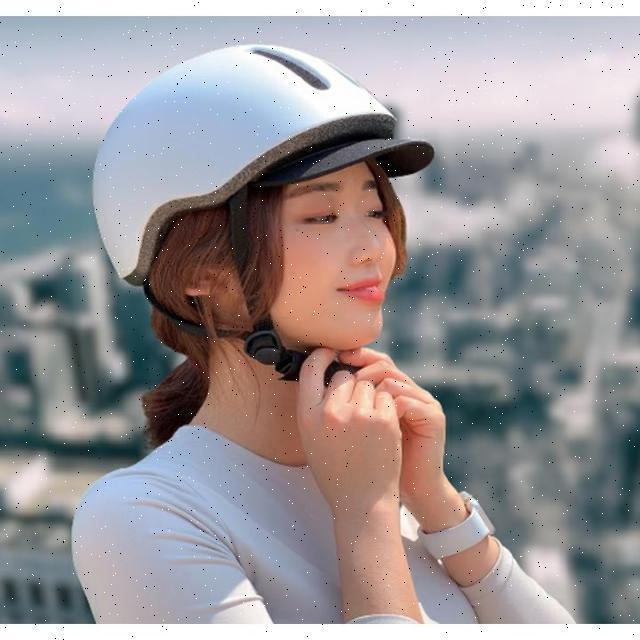helmet: (92, 44, 438, 392)
